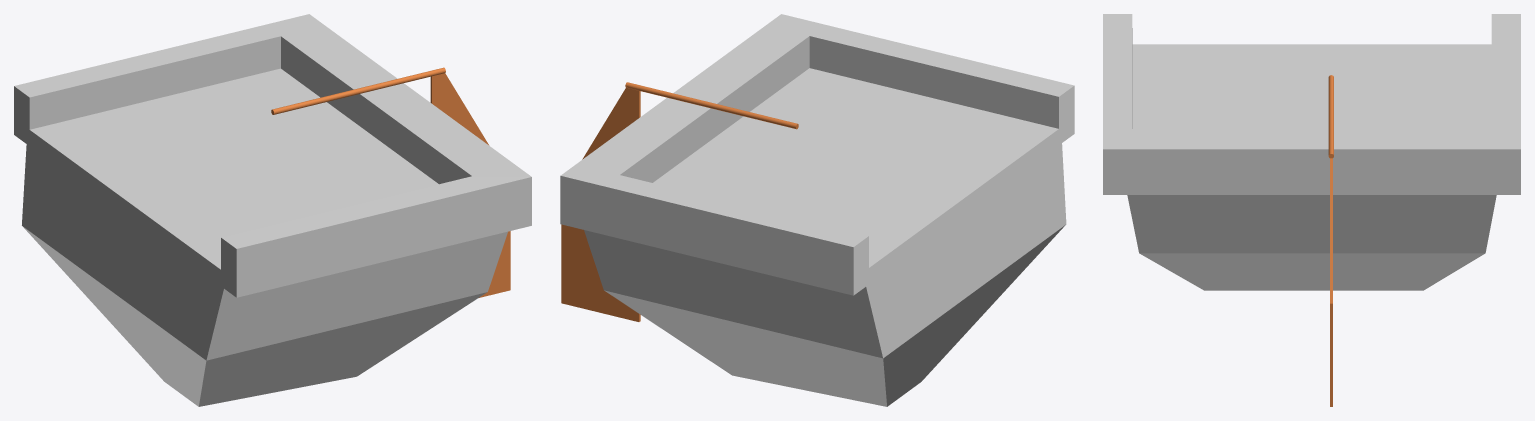
File: Barco_Trencat_Partit_2.fbx
3 views of the same model, side by side, from view 1: azimuth 30°, elevation 25°; view 2: azimuth 150°, elevation 25°; view 3: azimuth 270°, elevation 25° (orthographic). The views are drawn at different scales.
Parts seen in each view (by area): view 1: Barco, Timon; view 2: Barco, Timon; view 3: Barco, Timon.
Part boxes in pixels (x1,y1,x2,y2): Barco: (14,14,531,406); Timon: (271,67,510,297); Barco: (560,14,1074,406); Timon: (561,82,798,321); Barco: (1103,14,1520,290); Timon: (1328,75,1333,406).
Bounding box in the file's own units: 1813 × 1086 × 1723.
